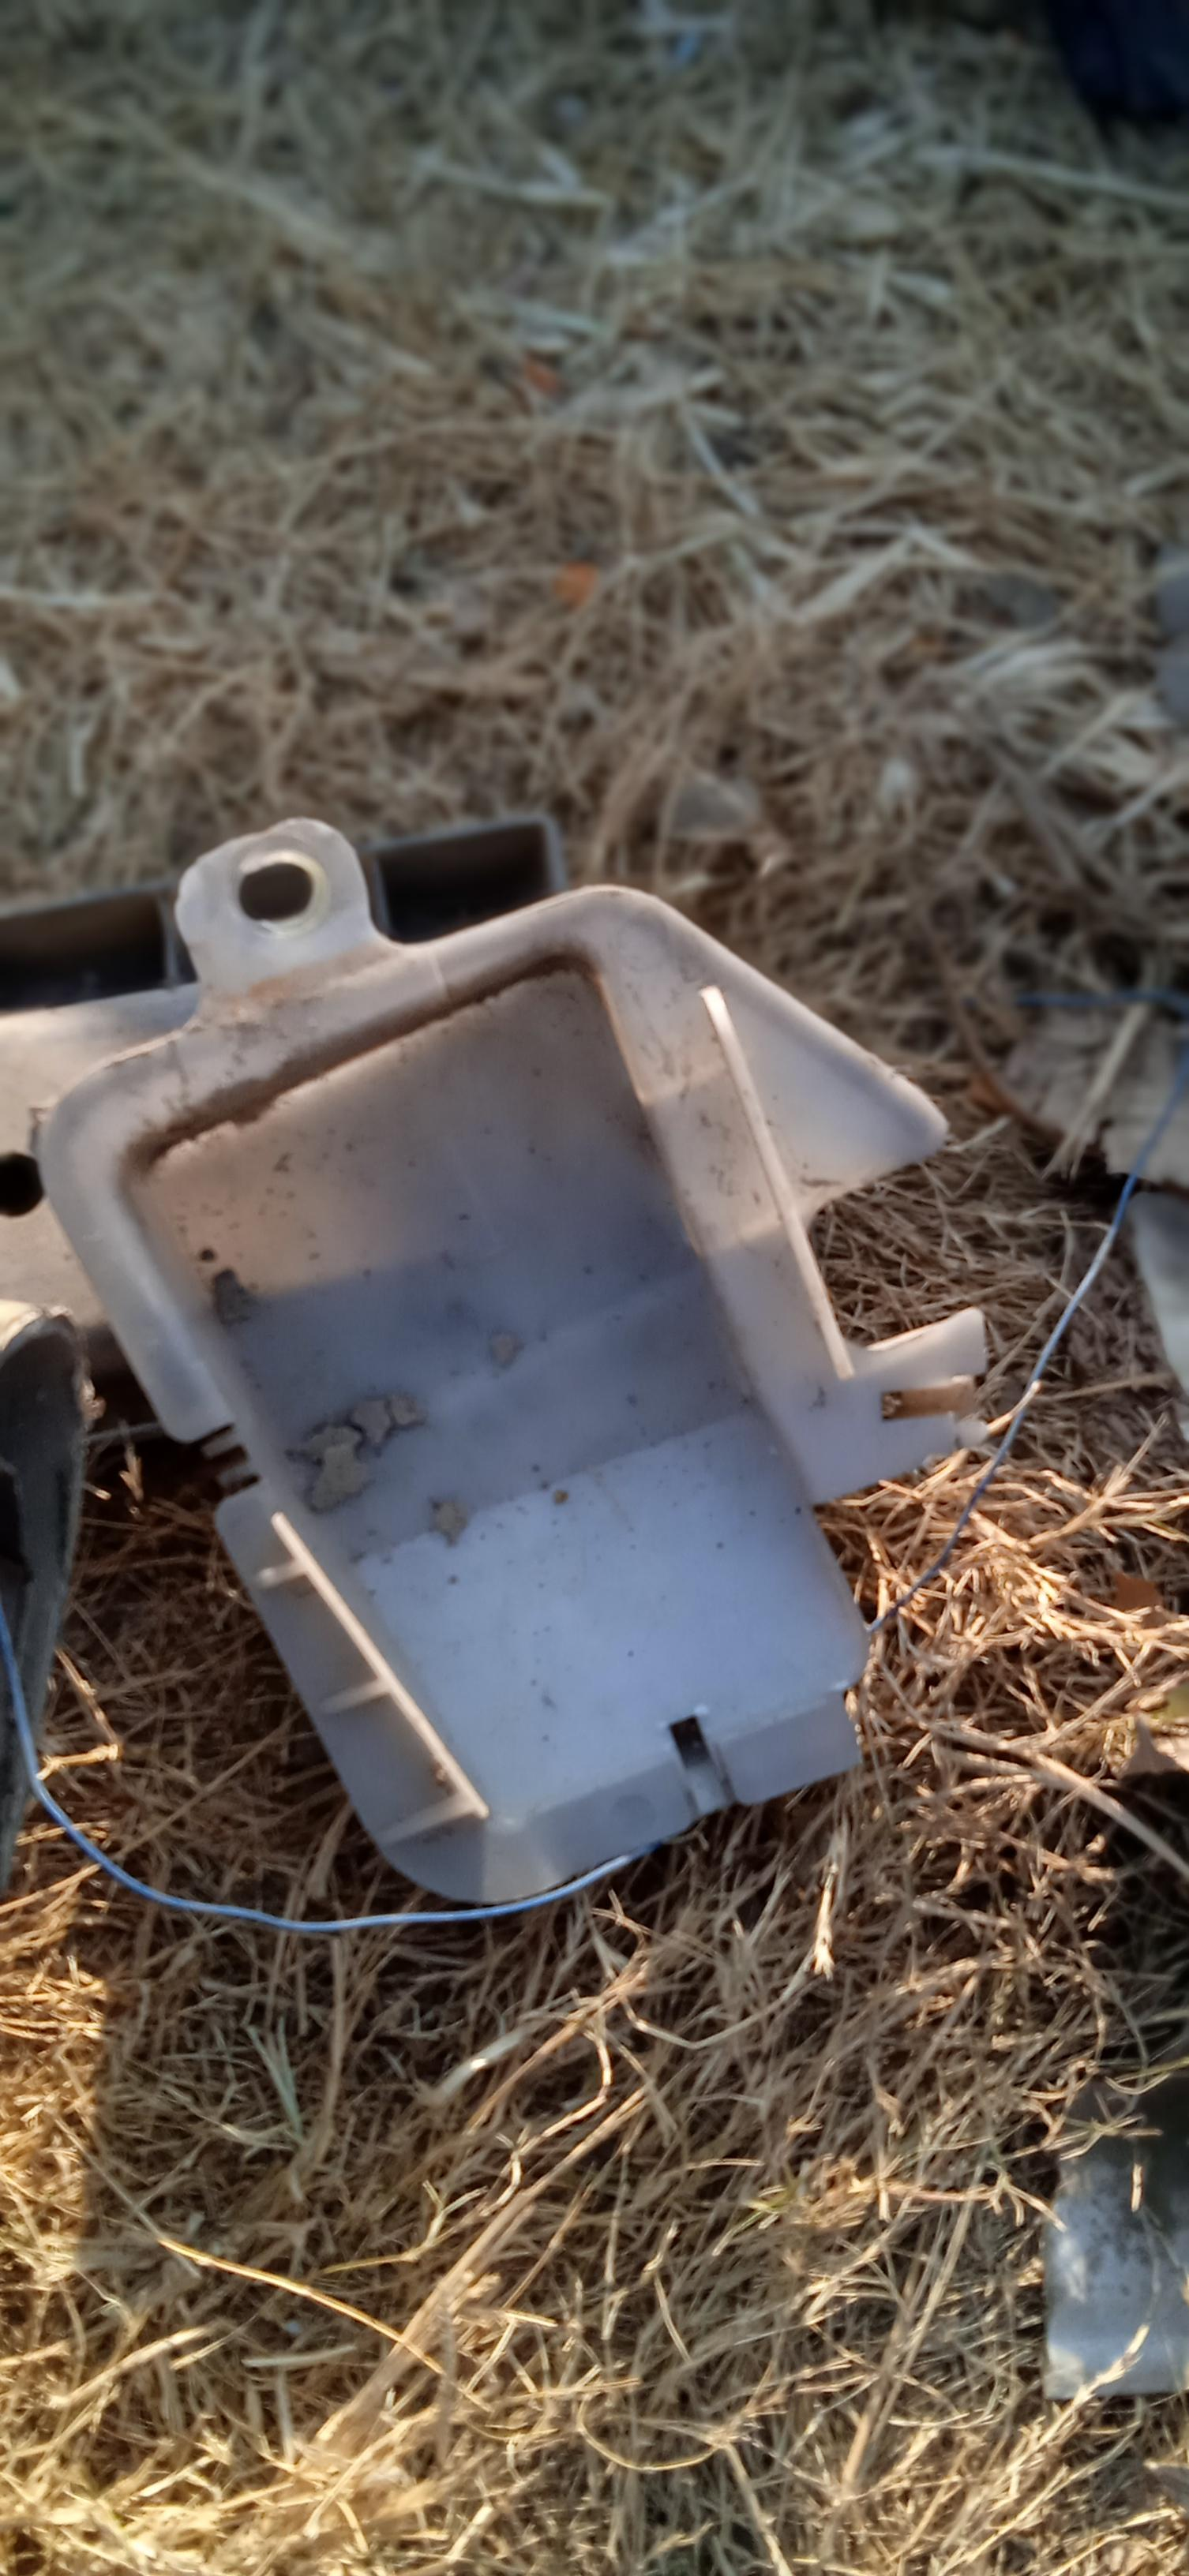automobile: (15, 826, 992, 1850)
